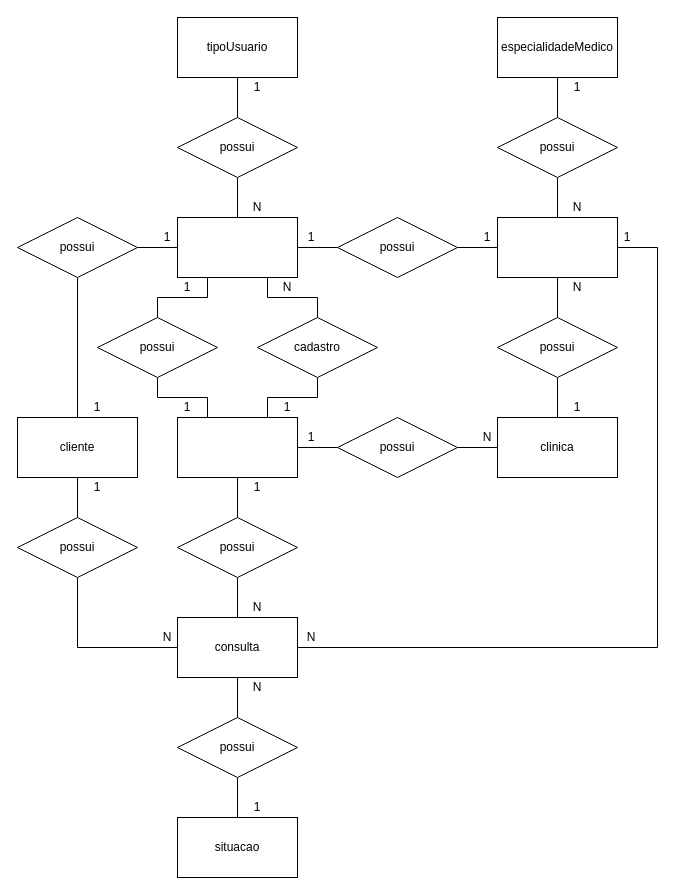
Some shapes in this 676 by 895 pixel diagram are drawn without their labels. The shapes that lost their labels are listed below. From the top down, each one's centre as x and y in pixels, then its label:
At (237,247): "usuario".
At (557,247): "medico".
At (237,447): "administrador".
